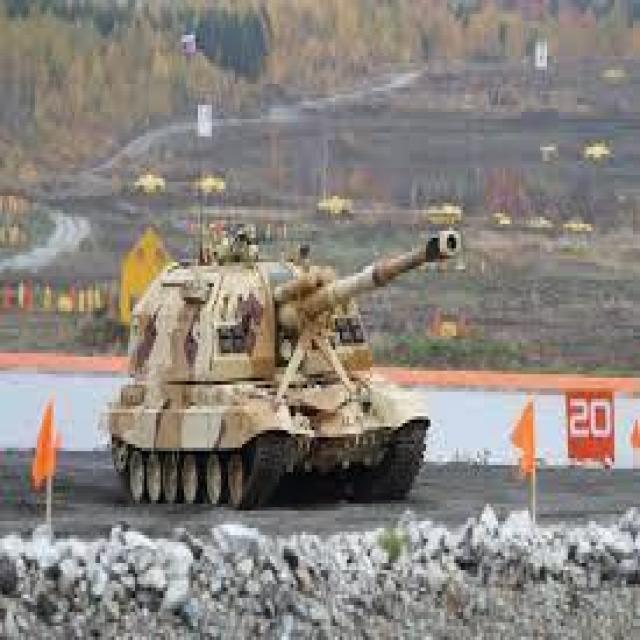Tanks: (90, 231, 464, 500)
